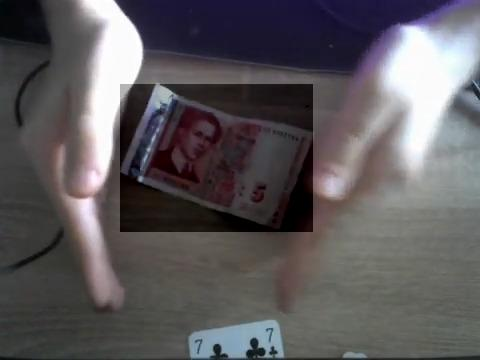5leva: (120, 84, 313, 232)
